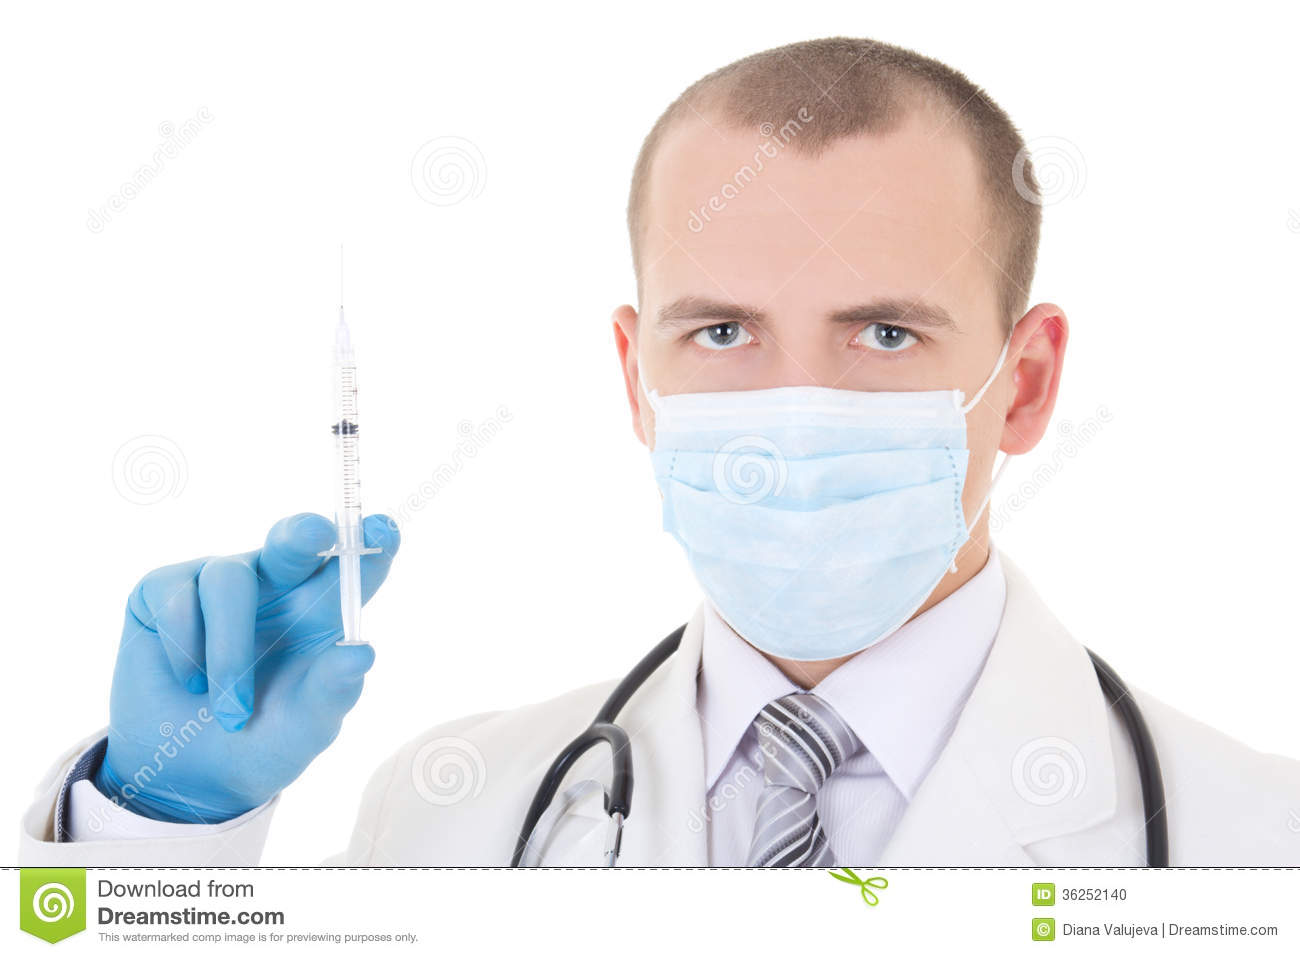mask: (656, 382, 965, 667)
